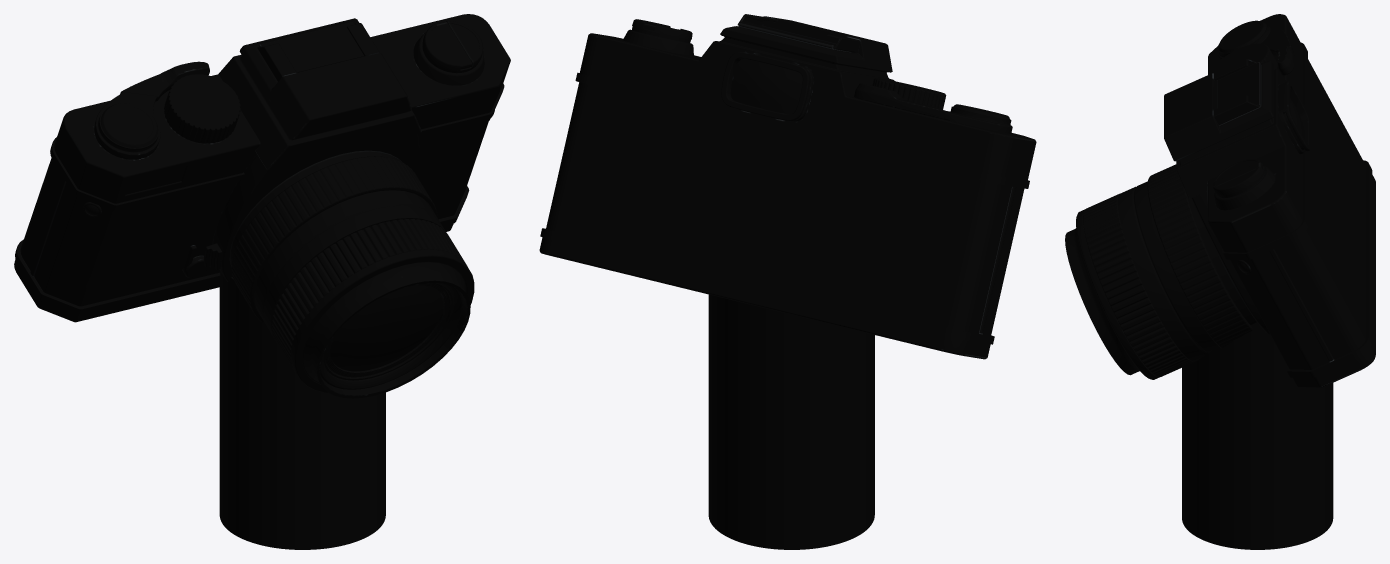
3 renders of one model, left to right at view 1: azimuth 30°, elevation 25°; view 2: azimuth 150°, elevation 25°; view 3: azimuth 270°, elevation 25°, orthographic. The views are drawn at different scales.
Parts seen in each view (by area): view 1: node_id145, mesh_id153; view 2: node_id145, mesh_id153; view 3: node_id145, mesh_id153.
Boxes of the visible parts, x1,y1,x2,y2 form: node_id145: [14, 14, 510, 398]; mesh_id153: [219, 271, 385, 549]; node_id145: [539, 14, 1036, 359]; mesh_id153: [708, 294, 874, 549]; node_id145: [1065, 14, 1375, 387]; mesh_id153: [1182, 322, 1333, 549].
Size of the model in its own units: 0.512 by 0.5516 by 0.3534.
Materials: 2 (2 with a texture image).
